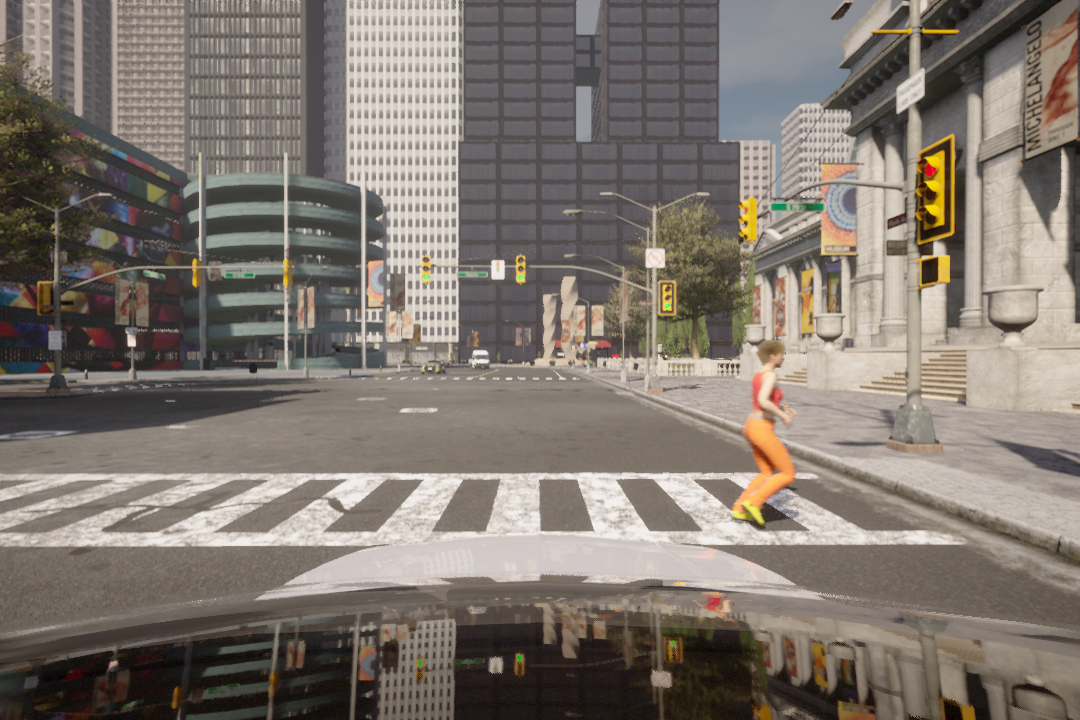TrafficLight: (919, 144, 951, 239), (659, 280, 674, 317), (741, 197, 753, 241), (419, 253, 431, 289), (516, 257, 528, 289)
TrafficSign: (643, 247, 665, 267)
walkside: (3, 474, 949, 554)
